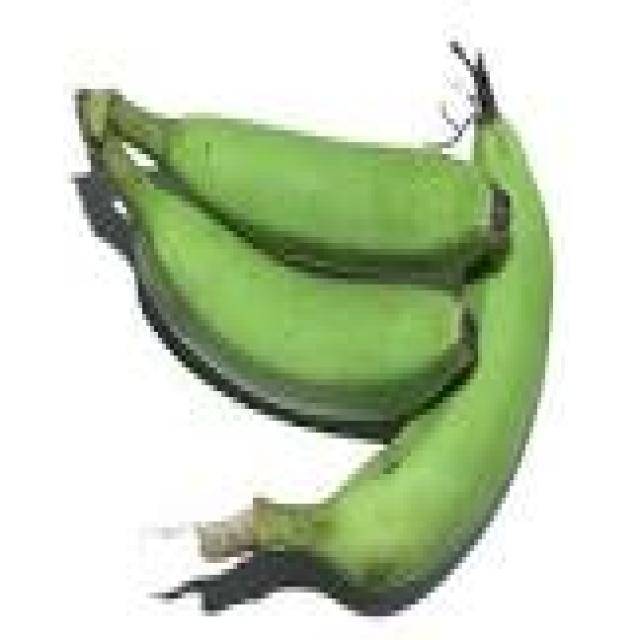banana: (198, 60, 553, 592), (99, 137, 474, 426), (87, 89, 509, 278)
